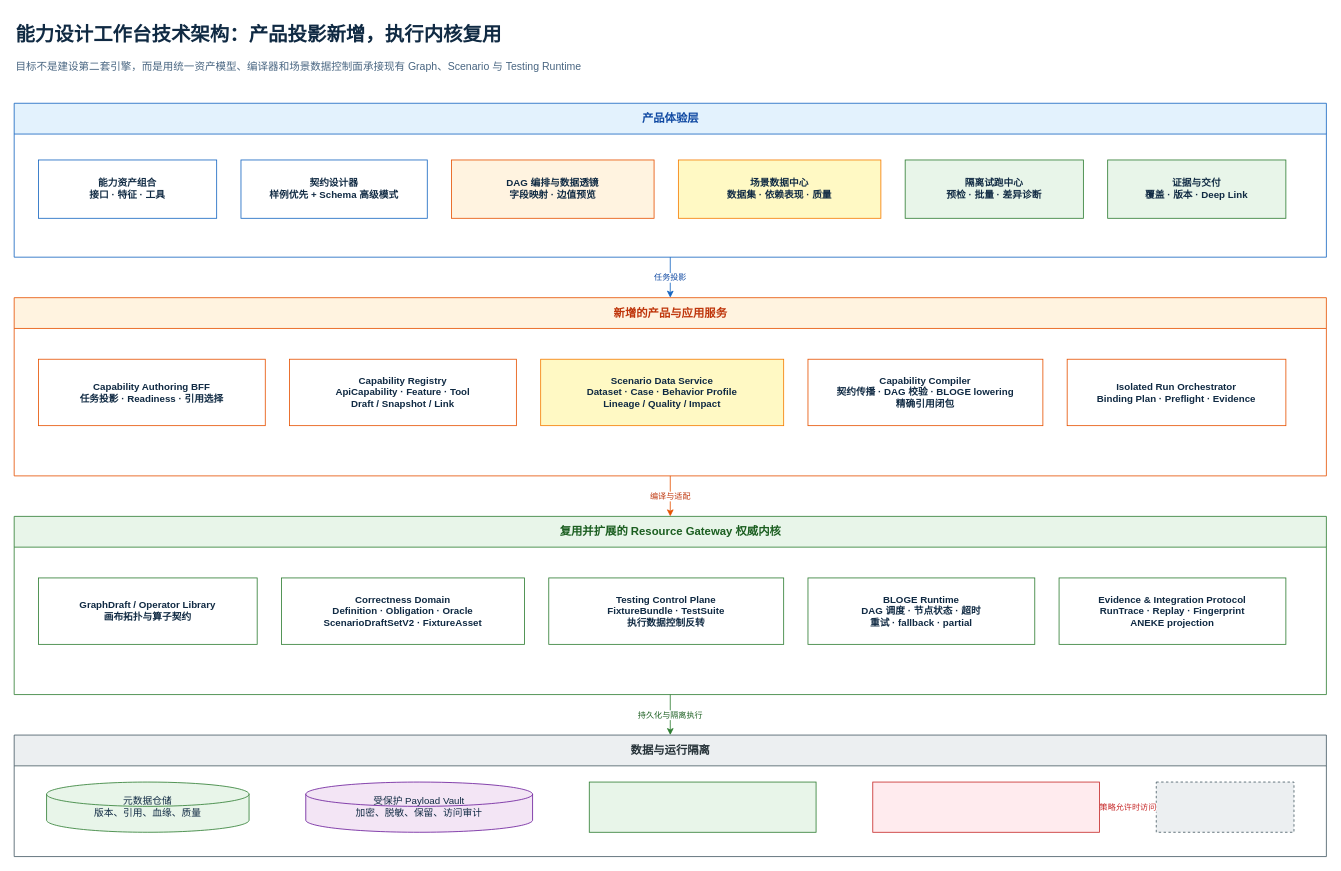
The diagram is 1341 pixels wide and 871 high, and some of its shapes have lost their labels. Each missing label, with the centre of its shape:
测试 / 演练运行面 允许受策略约束的数据替身: point 702,806
生产运行面 默认物理排除替身注入能力: point 986,806
真实外部 API 仅由显式 Binding Plan 访问: point 1224,806
